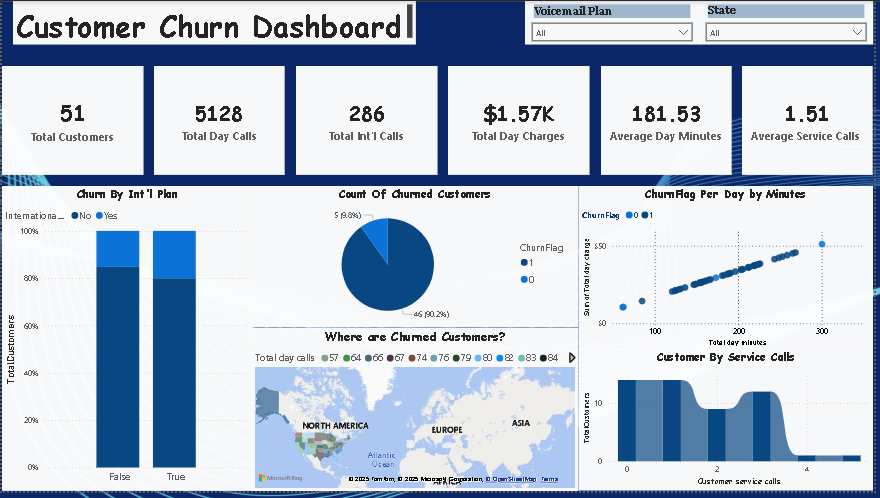

The page's visual inventory and layout, read from the dashboard file:
{"tool":"powerbi","page":{"name":"Page 2","canvas":[1280,720],"ordinal":1},"visuals":[{"type":"textbox","box":[16,0,592,64],"z":0},{"type":"card","fields":{"Values":["Customers.TotalCustomers"]},"box":[0,96,208,160],"z":1000},{"type":"card","fields":{"Values":["Sum(Customers.Total day calls)"]},"box":[224,96,192,160],"z":2000},{"type":"card","fields":{"Values":["Sum(Customers.Total intl calls)"]},"box":[432,96,208,160],"z":3000},{"type":"card","fields":{"Values":["Customers.AvgDayMinutes"]},"box":[880,96,192,160],"z":4000},{"type":"card","fields":{"Values":["Sum(Customers.Total day charge)"]},"box":[656,96,208,160],"z":5000},{"type":"card","fields":{"Values":["Customers.AvgCustomerServiceCalls"]},"box":[1088,96,192,160],"z":6000},{"type":"hundredPercentStackedColumnChart","title":"Churn By Int''l Plan","fields":{"Category":["Customers.Churn"],"Series":["Customers.International plan"],"Y":["Customers.TotalCustomers"]},"box":[0,272,368,448],"z":7000},{"type":"ribbonChart","title":"Customer By Service Calls","fields":{"Y":["Customers.TotalCustomers"],"Category":["Customers.Customer service calls"]},"box":[848,512,432,208],"z":8000},{"type":"scatterChart","title":"ChurnFlag Per Day by Minutes","fields":{"Series":["Customers.ChurnFlag"],"Y":["Sum(Customers.Total day charge)"],"X":["Customers.Total day minutes"]},"box":[848,272,432,240],"z":9000},{"type":"filledMap","title":"Where are Churned Customers?","fields":{"Category":["Customers.State"],"Series":["Customers.Total day calls"]},"box":[368,480,480,240],"z":10000},{"type":"slicer","fields":{"Values":["Customers.State"]},"box":[1024,0,256,64],"z":11000},{"type":"slicer","fields":{"Values":["Customers.Voice mail plan"]},"box":[768,0,256,64],"z":12000},{"type":"pieChart","title":"Count Of Churned Customers","fields":{"Y":["Customers.TotalCustomers"],"Category":["Customers.ChurnFlag"]},"box":[368,272,480,208],"z":13000}]}

Visuals, with their boxes in screenshot pixels (x1, y1, x2, y2), scaled from the page's 1280x720 canvas onto the 880x498 screenshot:
textbox: crop(11, 0, 418, 44)
card - Customers.TotalCustomers: crop(0, 66, 143, 177)
card - Sum(Customers.Total day calls): crop(154, 66, 286, 177)
card - Sum(Customers.Total intl calls): crop(297, 66, 440, 177)
card - Customers.AvgDayMinutes: crop(605, 66, 737, 177)
card - Sum(Customers.Total day charge): crop(451, 66, 594, 177)
card - Customers.AvgCustomerServiceCalls: crop(748, 66, 879, 177)
"Churn By Int''l Plan" hundredPercentStackedColumnChart: crop(0, 188, 253, 497)
"Customer By Service Calls" ribbonChart: crop(583, 354, 879, 497)
"ChurnFlag Per Day by Minutes" scatterChart: crop(583, 188, 879, 354)
"Where are Churned Customers?" filledMap: crop(253, 332, 583, 497)
slicer - Customers.State: crop(704, 0, 879, 44)
slicer - Customers.Voice mail plan: crop(528, 0, 704, 44)
"Count Of Churned Customers" pieChart: crop(253, 188, 583, 332)
